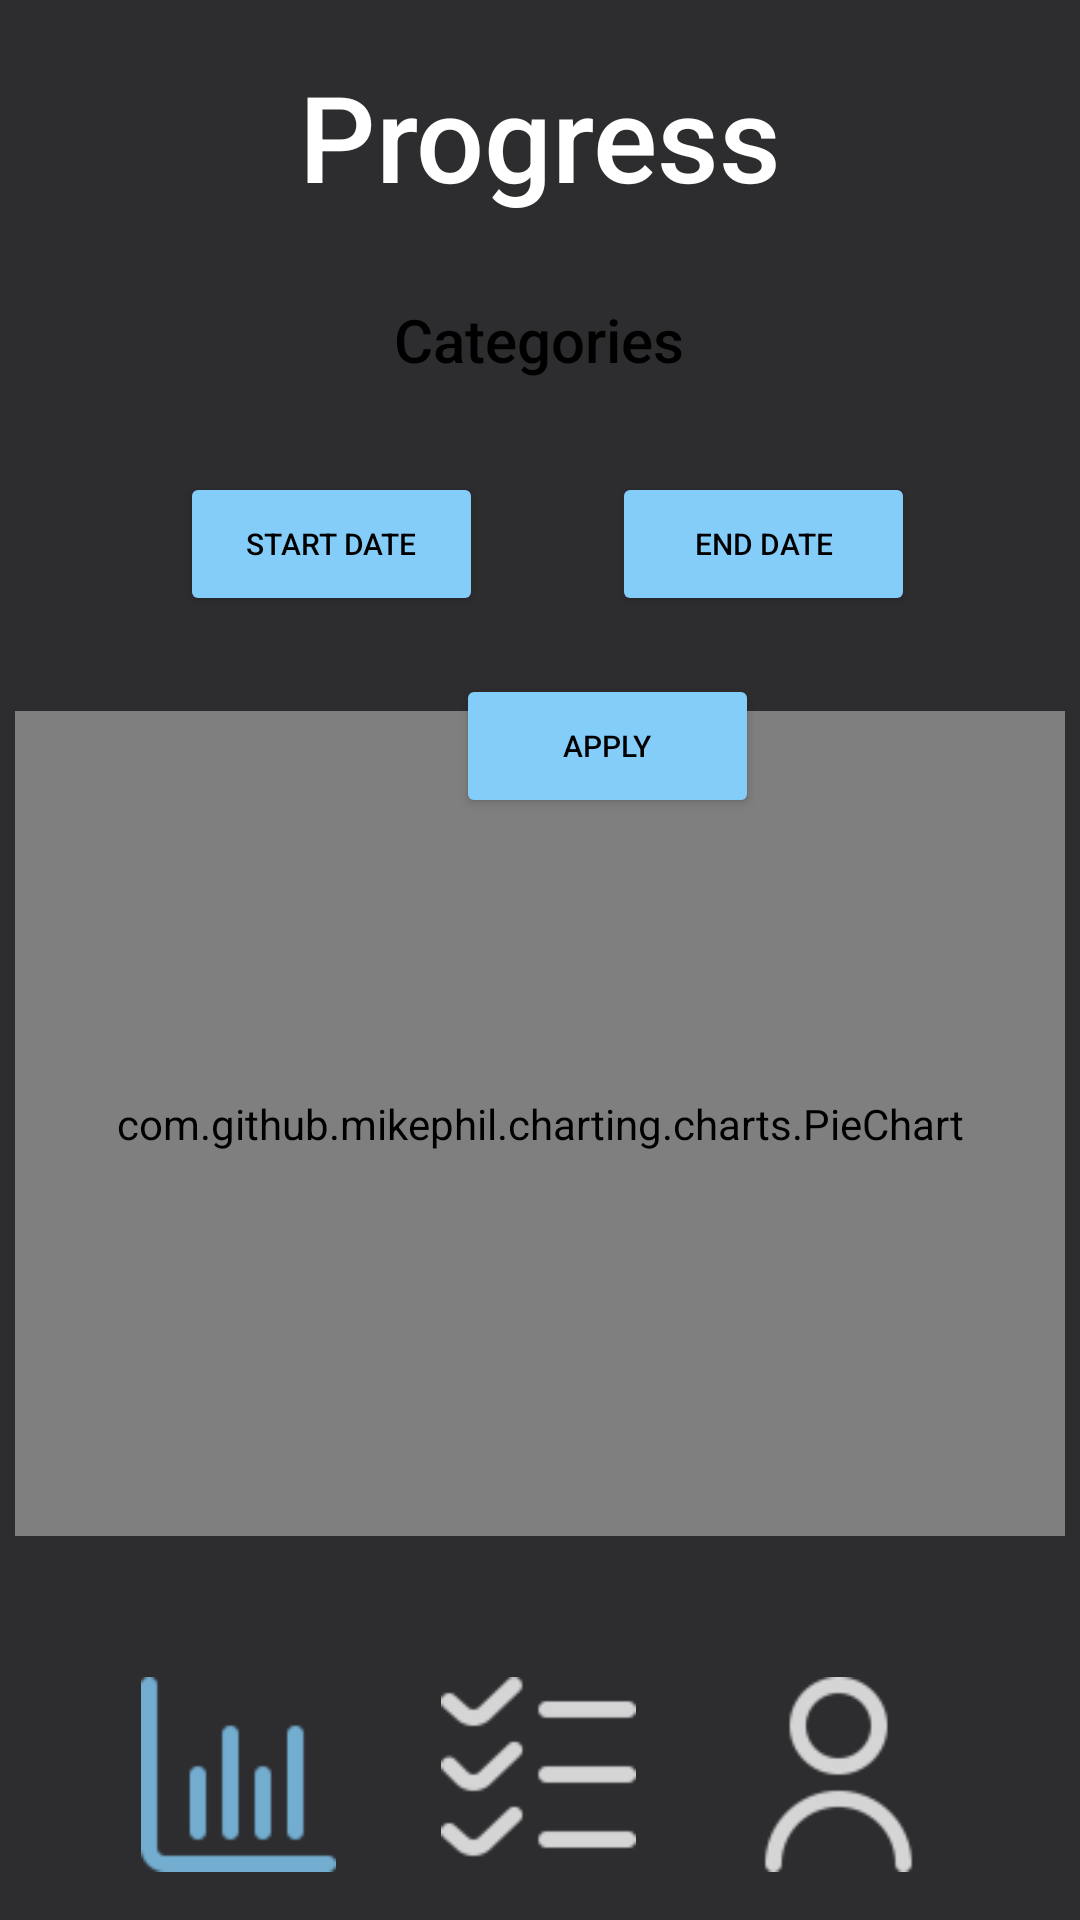

Point at icon controls on the screen. Image size 1080 x 1920, points as point (x, y).
profileblack: point (838, 1774)
progressblue: point (238, 1774)
timehseetblack: point (538, 1767)
